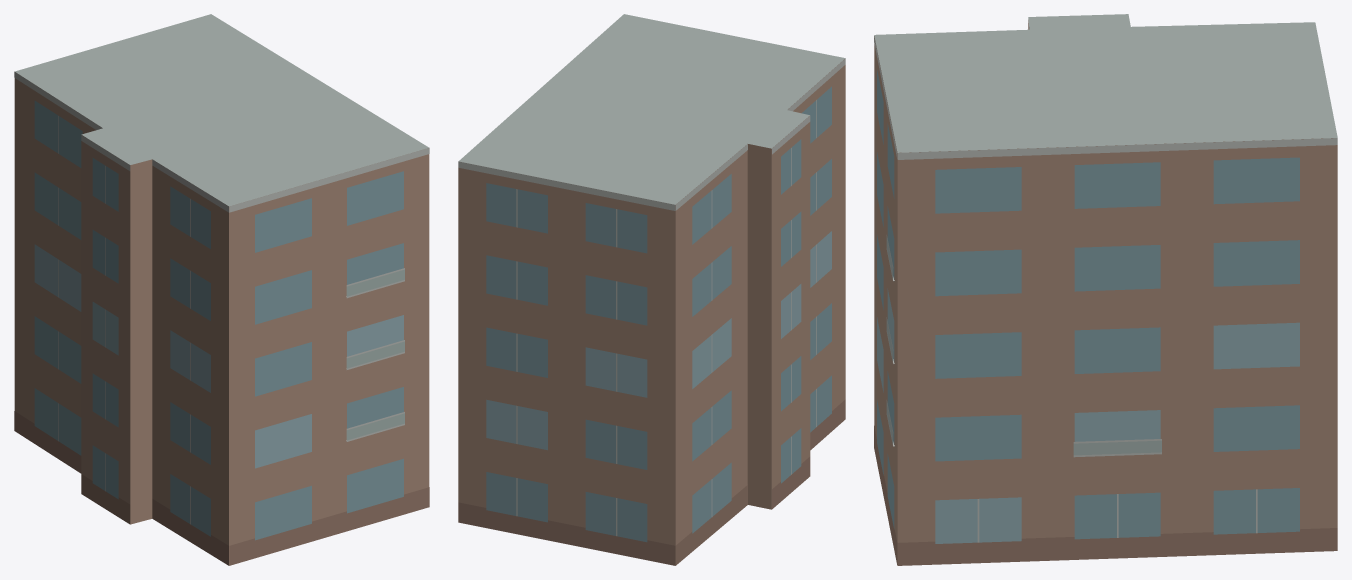
Rendered from survey-upis-32737465.glb.
3 renders of one model, left to right at view 1: azimuth 30°, elevation 25°; view 2: azimuth 150°, elevation 25°; view 3: azimuth 270°, elevation 25°, orthographic. The views are drawn at different scales.
Parts seen in each view (by area): view 1: survey-upis-32737465.tmp; view 2: survey-upis-32737465.tmp; view 3: survey-upis-32737465.tmp.
Part boxes in pixels (x1,y1,x2,y2): survey-upis-32737465.tmp: (14,14,429,565); survey-upis-32737465.tmp: (458,14,845,565); survey-upis-32737465.tmp: (874,14,1337,565).
Bounding box in the file's own units: 10.1 × 14 × 14.25.
